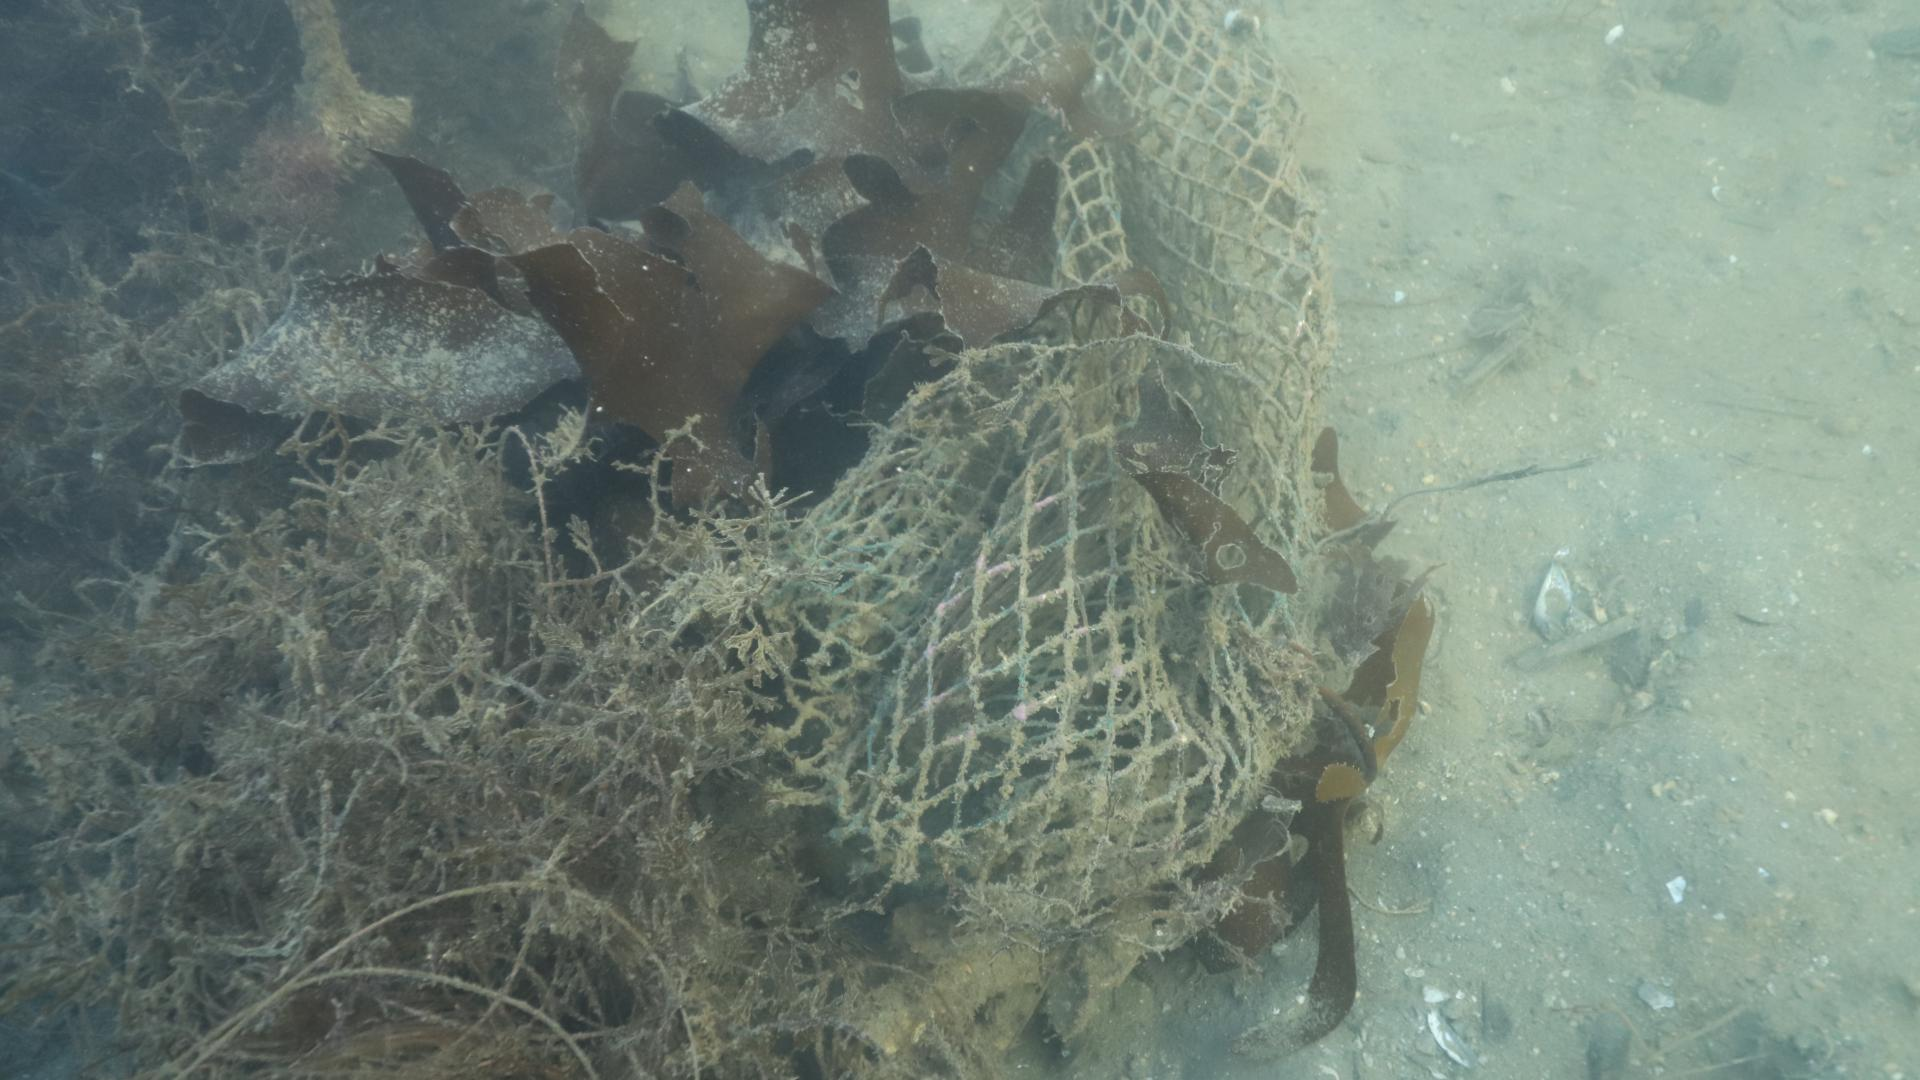fish net: (775, 0, 1327, 920)
